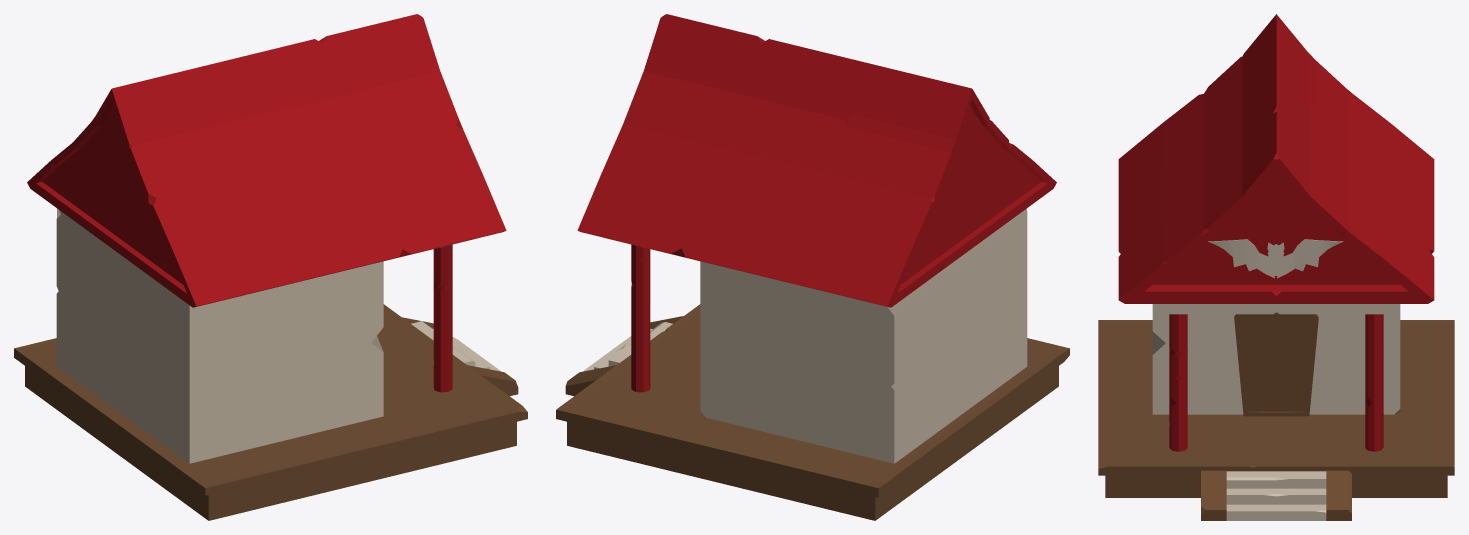
File: Casa_final.fbx
3 views of the same model, side by side, from view 1: azimuth 30°, elevation 25°; view 2: azimuth 150°, elevation 25°; view 3: azimuth 270°, elevation 25° (orthographic). The views are drawn at different scales.
Parts seen in each view (by area): view 1: final house; view 2: final house; view 3: final house.
Boxes of the visible parts, box(x1,y1,x2,y2) form: final house: box(14, 14, 527, 520); final house: box(556, 14, 1069, 520); final house: box(1098, 14, 1454, 520).
Size of the model in its own units: 491 by 467 by 442.
